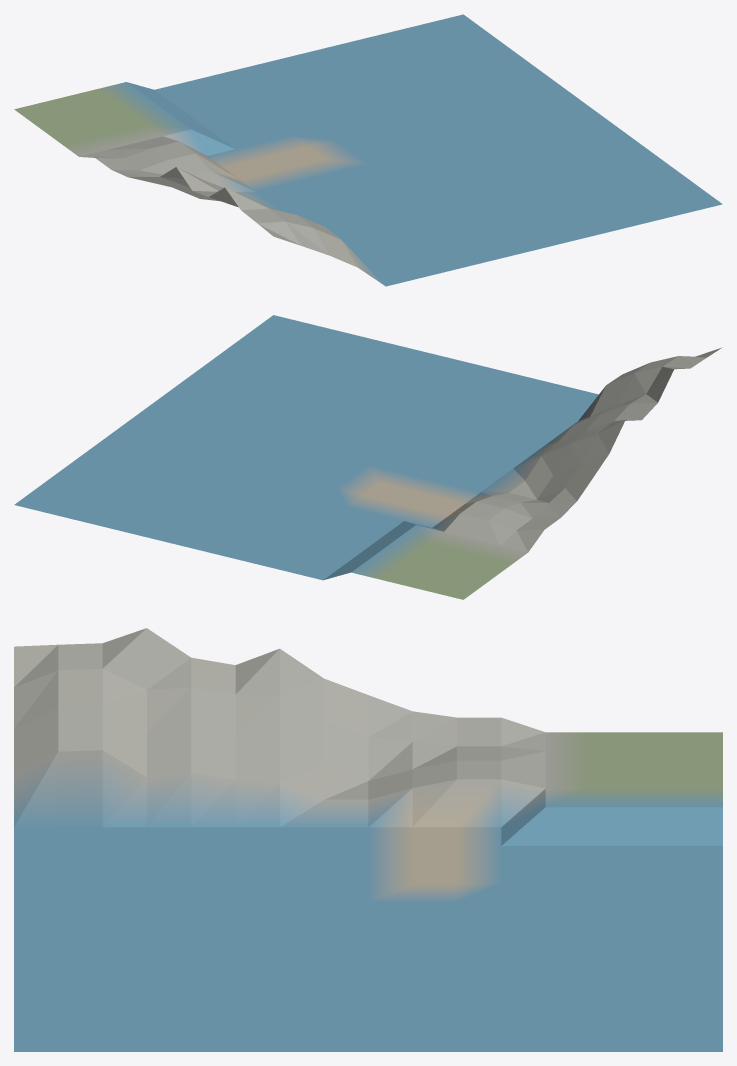
3 renders of one model, top to bottom at view 1: azimuth 30°, elevation 25°; view 2: azimuth 150°, elevation 25°; view 3: azimuth 270°, elevation 25°, orthographic. The views are drawn at different scales.
Size of the model in its own units: 32 by 6.19 by 32.
